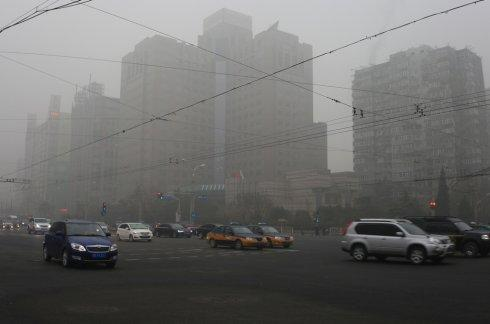car: (341, 217, 457, 263), (401, 215, 490, 258), (41, 220, 119, 267), (207, 223, 268, 250), (238, 223, 295, 248), (116, 222, 153, 241), (154, 222, 193, 237), (196, 223, 231, 239), (26, 216, 51, 234), (86, 221, 109, 235), (2, 215, 21, 228), (1, 220, 14, 232)
